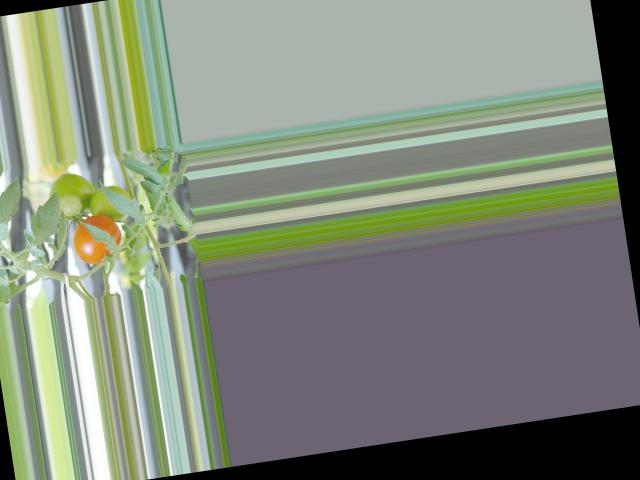tomato: (68, 212, 124, 267)
